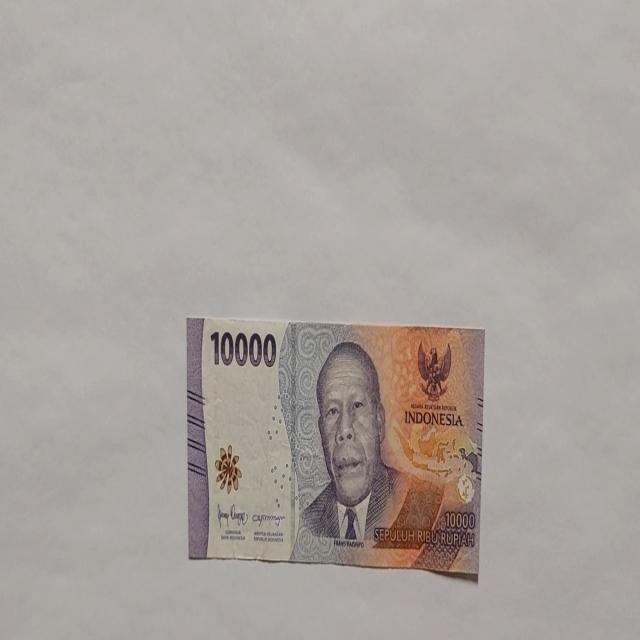sepuluh ribu rupiah: (186, 314, 486, 578), (288, 338, 445, 568)
